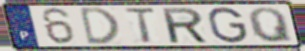6: (40, 6, 77, 46)
D: (78, 6, 121, 46)
G: (206, 6, 250, 44)
Q: (246, 6, 295, 44)
R: (159, 6, 211, 45)
T: (122, 7, 159, 45)
